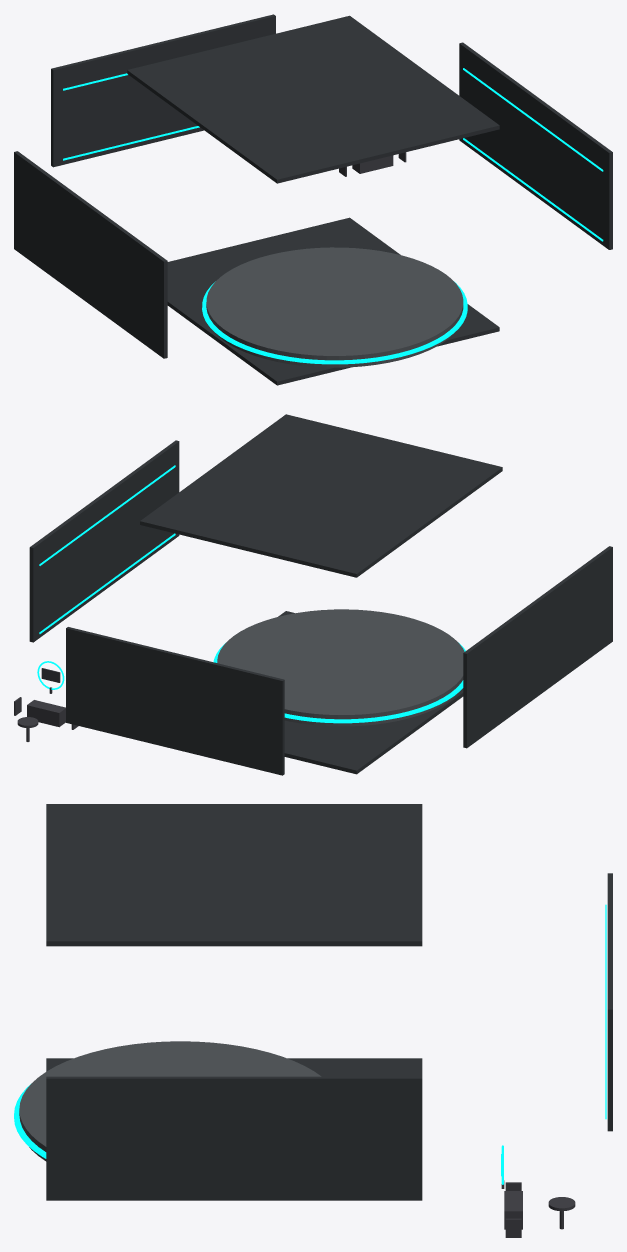
The model's file is garage-environment-draft.glb.
3 views of the same model, one above another, from view 1: azimuth 30°, elevation 25°; view 2: azimuth 150°, elevation 25°; view 3: azimuth 270°, elevation 25° (orthographic). The views are drawn at different scales.
Parts seen in each view (by area): view 1: Ceiling, VehiclePlatform, WallLeft, WallRight, WallBack, Floor, PlatformRing; view 2: Ceiling, WallBack, VehiclePlatform, WallLeft, WallRight, Floor, PlatformRing, WorkDesk; view 3: Ceiling, WallRight, VehiclePlatform, Floor, WallBack.
Part boxes in pixels (x1,y1,x2,y2): Ceiling: [127, 15, 499, 183]; VehiclePlatform: [206, 247, 463, 367]; WallLeft: [14, 151, 167, 358]; WallRight: [459, 42, 612, 249]; WallBack: [51, 14, 275, 167]; Floor: [167, 217, 499, 385]; PlatformRing: [202, 281, 467, 364]; Ceiling: [140, 414, 502, 577]; WallBack: [66, 627, 284, 775]; VehiclePlatform: [217, 609, 464, 726]; WallLeft: [463, 546, 612, 748]; WallRight: [29, 440, 179, 642]; Floor: [278, 611, 463, 774]; PlatformRing: [213, 642, 465, 723]; WorkDesk: [27, 700, 65, 727]; Ceiling: [46, 805, 422, 946]; WallRight: [46, 1076, 422, 1200]; VehiclePlatform: [19, 1041, 321, 1161]; Floor: [46, 1058, 422, 1076]; WallBack: [607, 873, 612, 1131].
Size of the model in its own units: 12.1 by 5.3 by 11.15.
